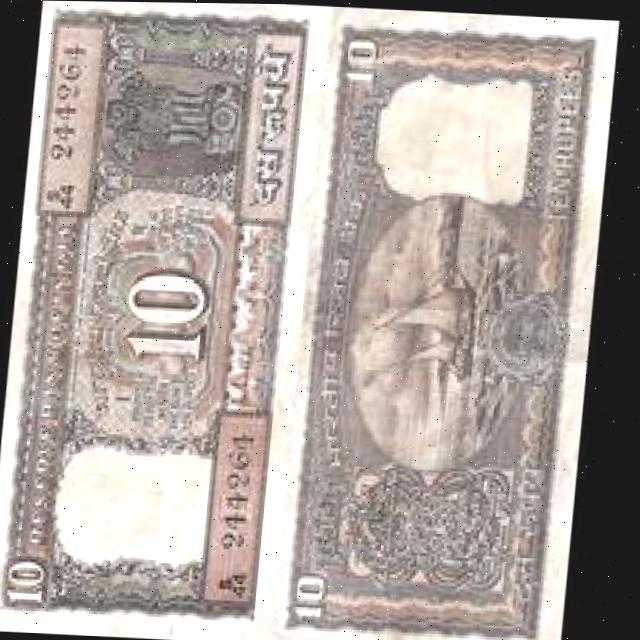banknote: (1, 2, 310, 626), (288, 22, 598, 640)
